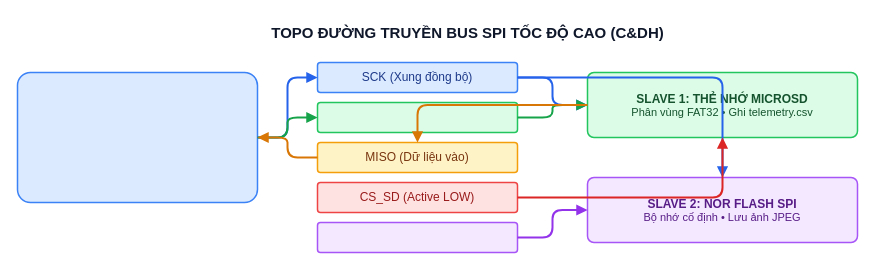
Some shapes in this 885 by 270 pixel diagram are drawn without their labels. Here are the shapes that lost their labels. From the top down, the centre of each, then its label:
At point (137, 137): "MASTER (ESP32) SCK (18) • MOSI (23) MISO (19) • CS_SD (5) • CS_FLASH (21)".
At point (417, 117): "MOSI (Dữ liệu ra)".
At point (417, 237): "CS_FLASH (Active LOW)".
